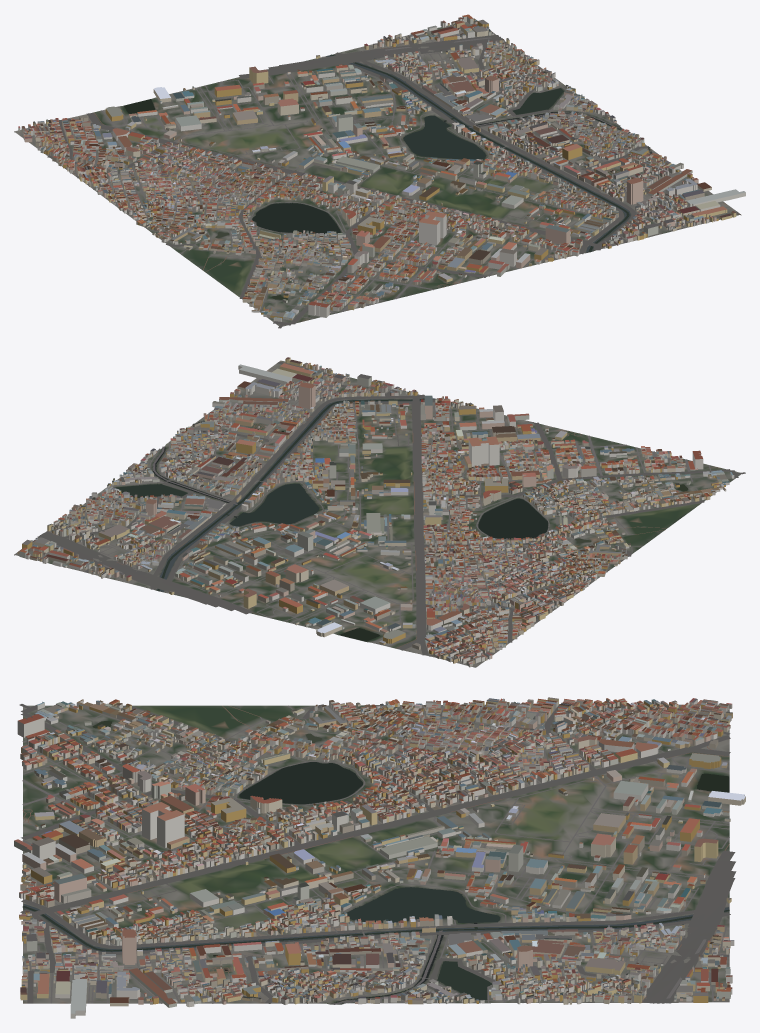
3 renders of one model, top to bottom at view 1: azimuth 30°, elevation 25°; view 2: azimuth 150°, elevation 25°; view 3: azimuth 270°, elevation 25°, orthographic. The views are drawn at different scales.
Visible parts, largest first — view 1: buildings, ground, roads, water; view 2: buildings, ground, roads, water; view 3: buildings, ground, roads, water.
Boxes of the visible parts, x1,y1,x2,y2 form: buildings: (18,14,745,321); ground: (14,19,741,326); roads: (26,23,738,328); water: (124,54,630,299); buildings: (17,357,734,667); ground: (14,360,742,667); roads: (16,361,745,664); water: (116,398,688,641); buildings: (14,697,745,1018); ground: (23,704,729,1004); roads: (19,704,736,1003); water: (22,721,729,1004).
Bounding box in the file's own units: 1488 × 65.17 × 1453.
